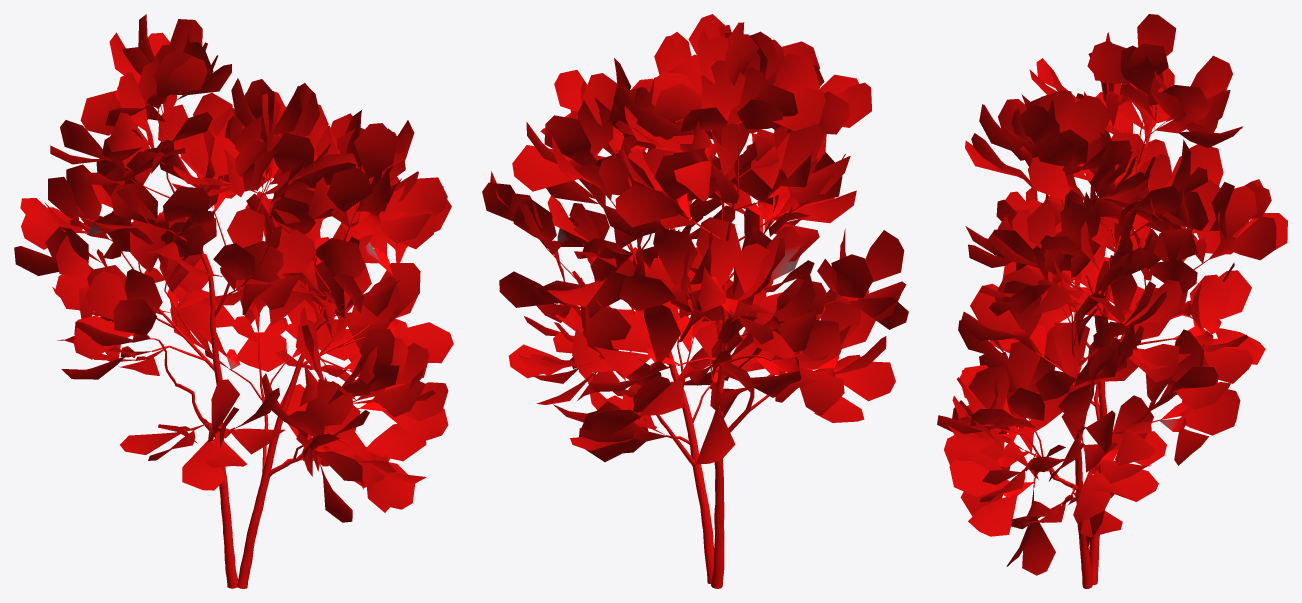
Rendered from birch.fbx.
3 views of the same model, side by side, from view 1: azimuth 30°, elevation 25°; view 2: azimuth 150°, elevation 25°; view 3: azimuth 270°, elevation 25° (orthographic). The views are drawn at different scales.
Parts seen in each view (by area): view 1: SM_AmericanAspen_Fall_20_LOD0; view 2: SM_AmericanAspen_Fall_20_LOD0; view 3: SM_AmericanAspen_Fall_20_LOD0.
Part boxes in pixels (left/top/right/bottom): SM_AmericanAspen_Fall_20_LOD0: left=14, top=14, right=453, bottom=588; SM_AmericanAspen_Fall_20_LOD0: left=482, top=14, right=908, bottom=588; SM_AmericanAspen_Fall_20_LOD0: left=937, top=14, right=1287, bottom=588.
Size of what is drawn, in the model's own units: 1047 by 847 by 1449.
